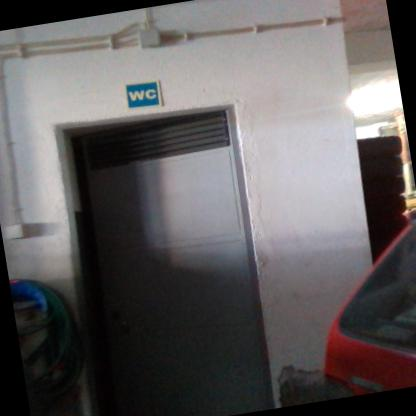semi: (31, 76, 305, 415)
